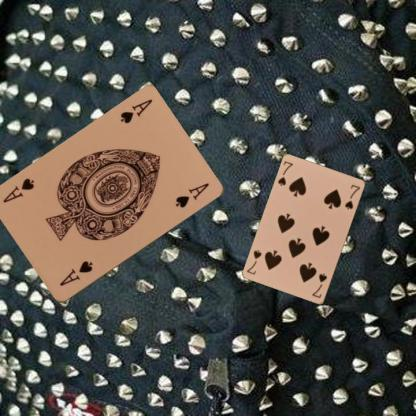7s: (275, 159, 294, 187), (310, 271, 328, 299)
As: (57, 258, 94, 288), (117, 96, 154, 126)
